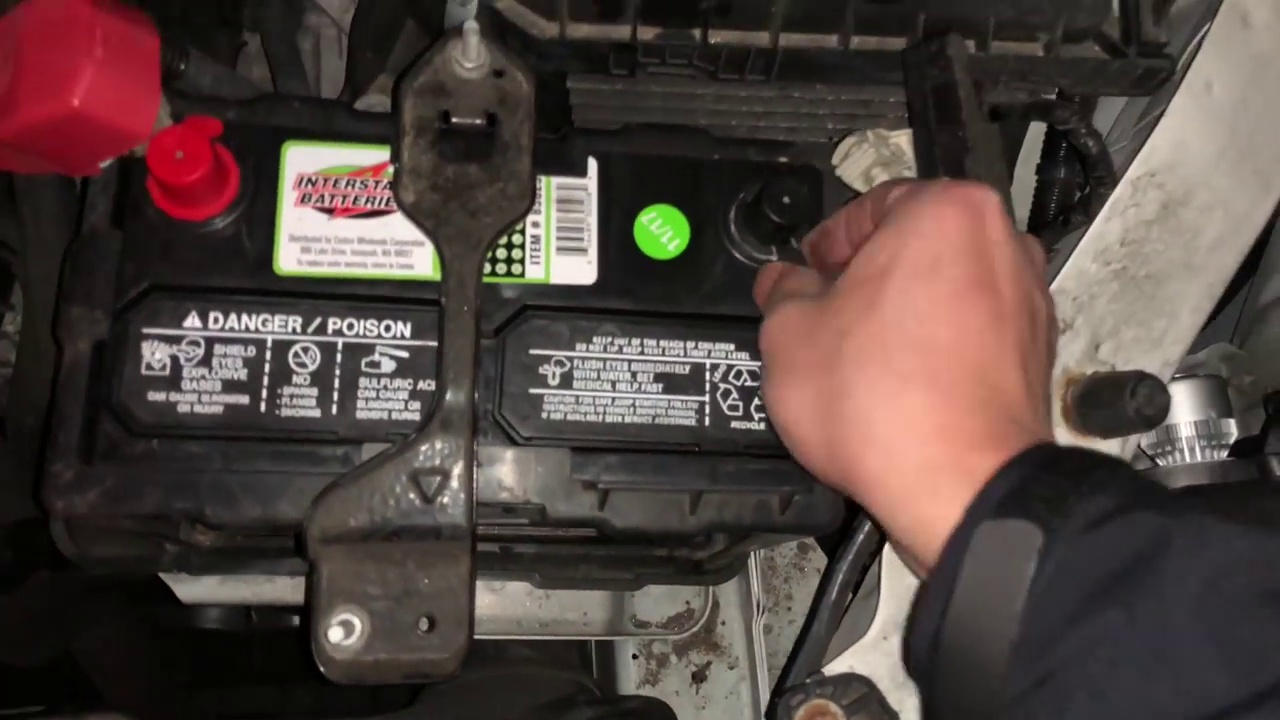battery: (47, 46, 835, 496)
pos_disconnected: (6, 22, 260, 233)
